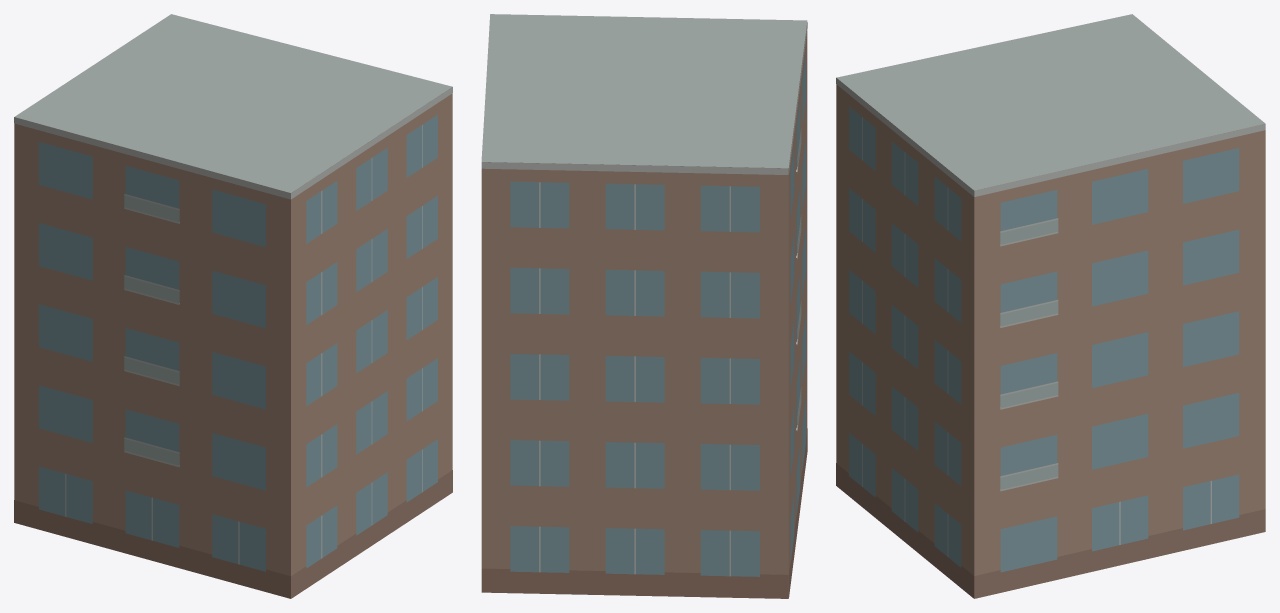
The model's file is survey-upis-32948406.glb.
3 renders of one model, left to right at view 1: azimuth 30°, elevation 25°; view 2: azimuth 150°, elevation 25°; view 3: azimuth 270°, elevation 25°, orthographic. The views are drawn at different scales.
Parts seen in each view (by area): view 1: survey-upis-32948406.tmp; view 2: survey-upis-32948406.tmp; view 3: survey-upis-32948406.tmp.
Part boxes in pixels (x1,y1,x2,y2): survey-upis-32948406.tmp: (14,14,452,598); survey-upis-32948406.tmp: (481,14,807,598); survey-upis-32948406.tmp: (836,14,1265,598).
Size of the model in its own units: 14.31 by 15.4 by 14.69.
